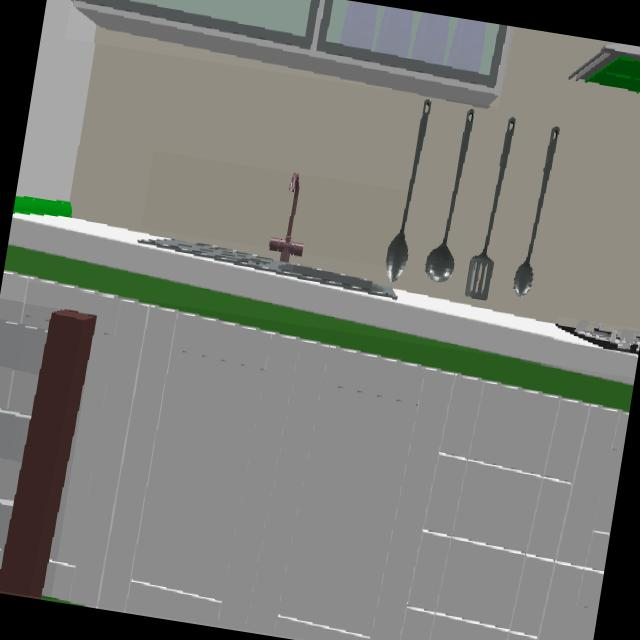cabinet: (27, 283, 629, 640), (74, 0, 510, 106)
chair: (0, 310, 96, 597)
countertop: (4, 215, 637, 410)
sink: (139, 174, 395, 297)
stove: (557, 321, 640, 354)
